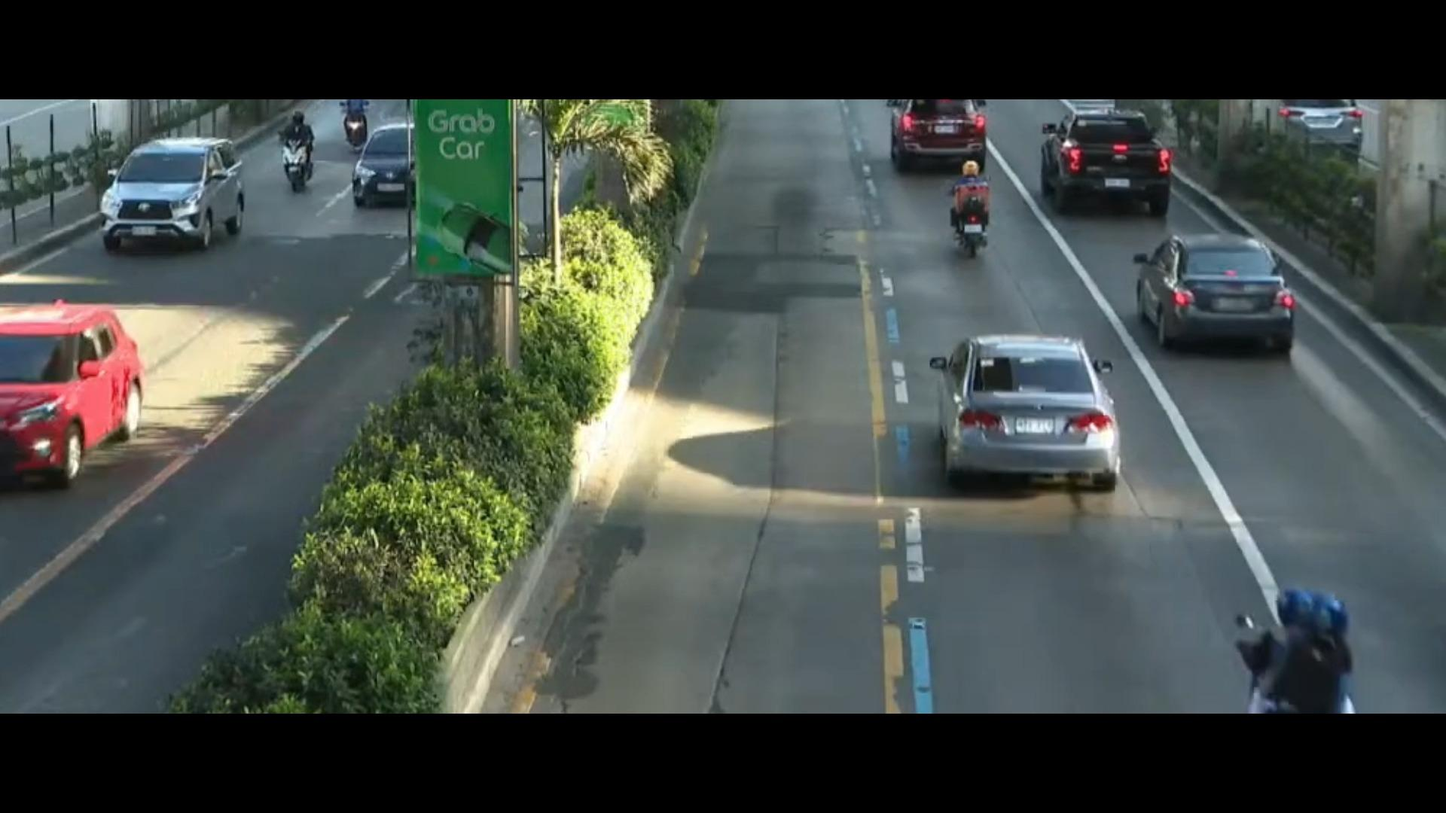Motorcycle: (1206, 565, 1407, 709), (943, 149, 1020, 258), (268, 98, 317, 226), (332, 106, 384, 143)
Pickup: (1025, 108, 1193, 217)
SUV: (4, 294, 188, 497), (87, 118, 247, 270), (883, 96, 997, 173)
Sedan: (904, 329, 1138, 509), (1123, 214, 1307, 358), (342, 127, 411, 214)
